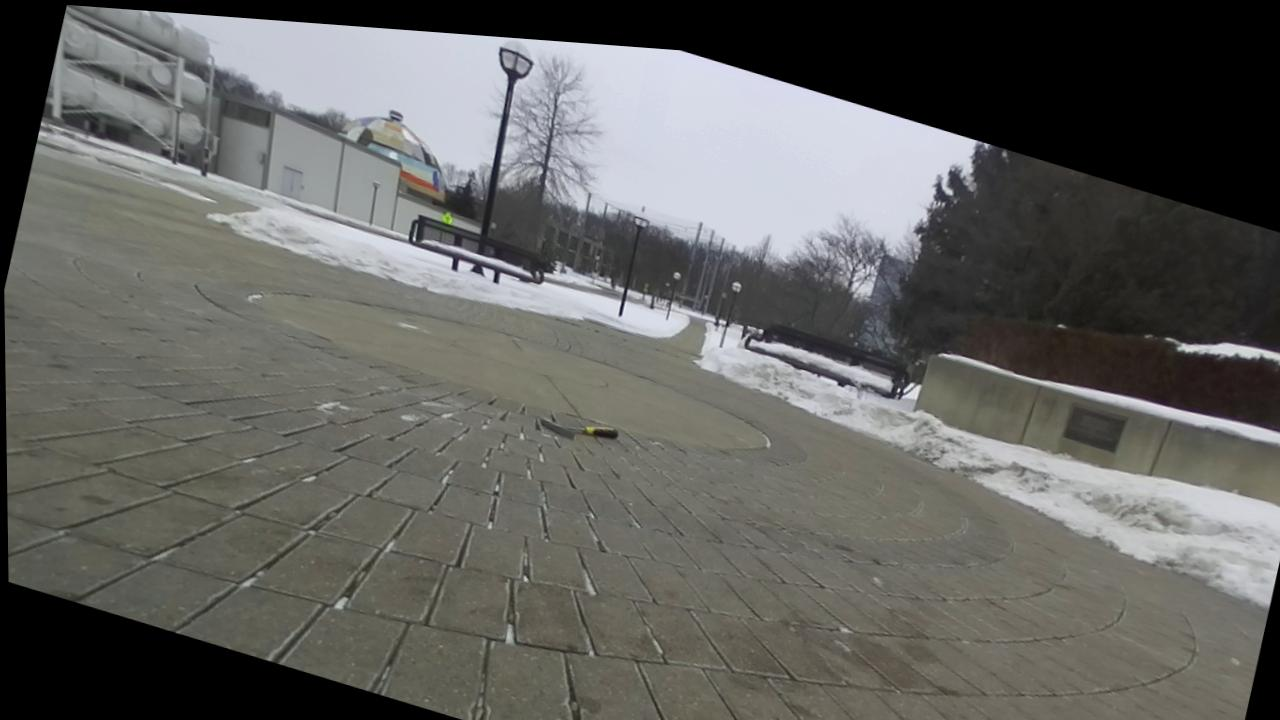pick: (538, 418, 618, 438)
